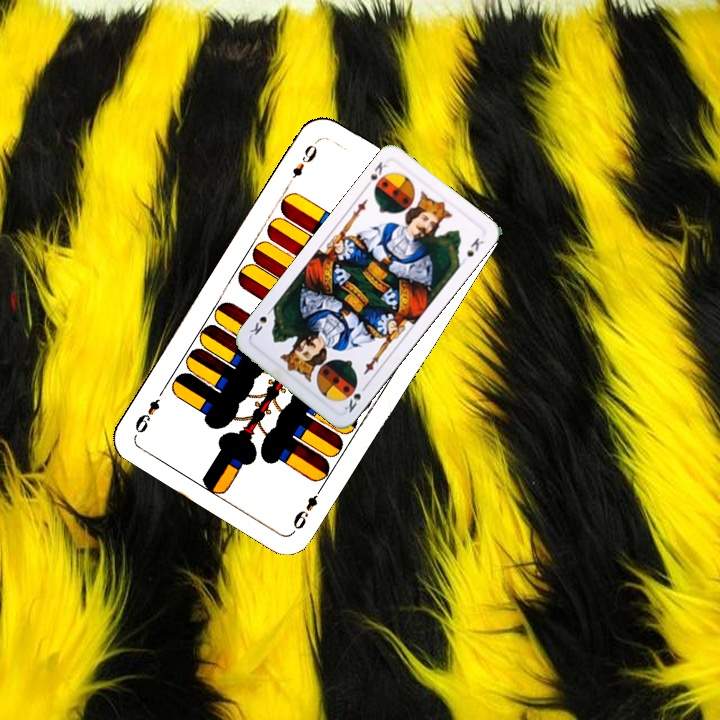E9: (288, 481, 327, 534), (288, 136, 321, 181)
SK: (340, 380, 370, 415), (361, 157, 389, 191)
